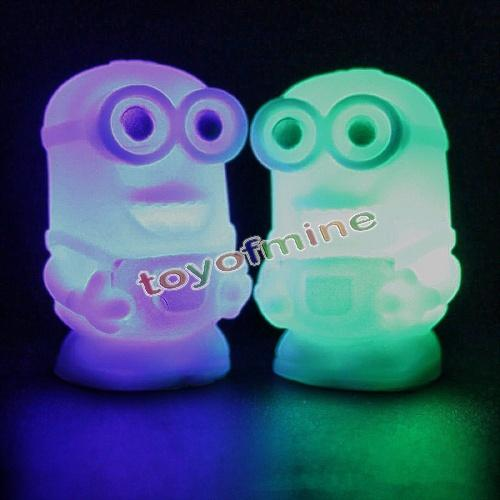lamp: (238, 72, 459, 402), (39, 62, 253, 384)
